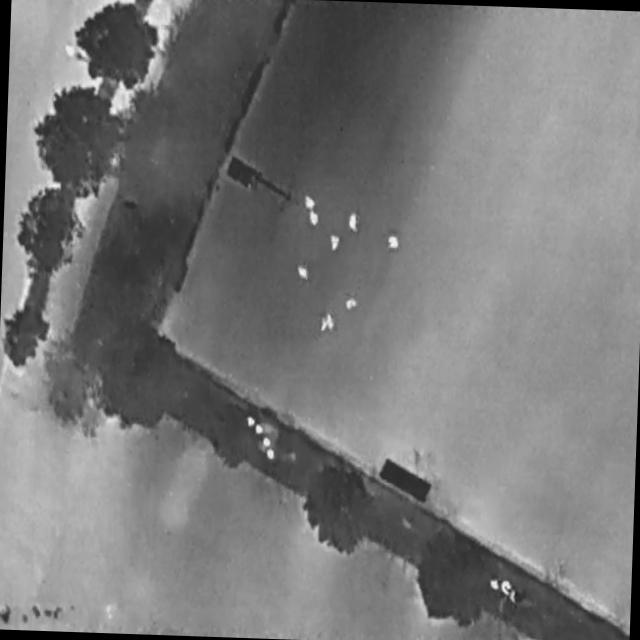person: (293, 260, 312, 283), (320, 312, 336, 334), (386, 233, 403, 253), (343, 294, 360, 314), (307, 208, 321, 228), (348, 212, 359, 235), (329, 236, 341, 252), (305, 194, 317, 209)
